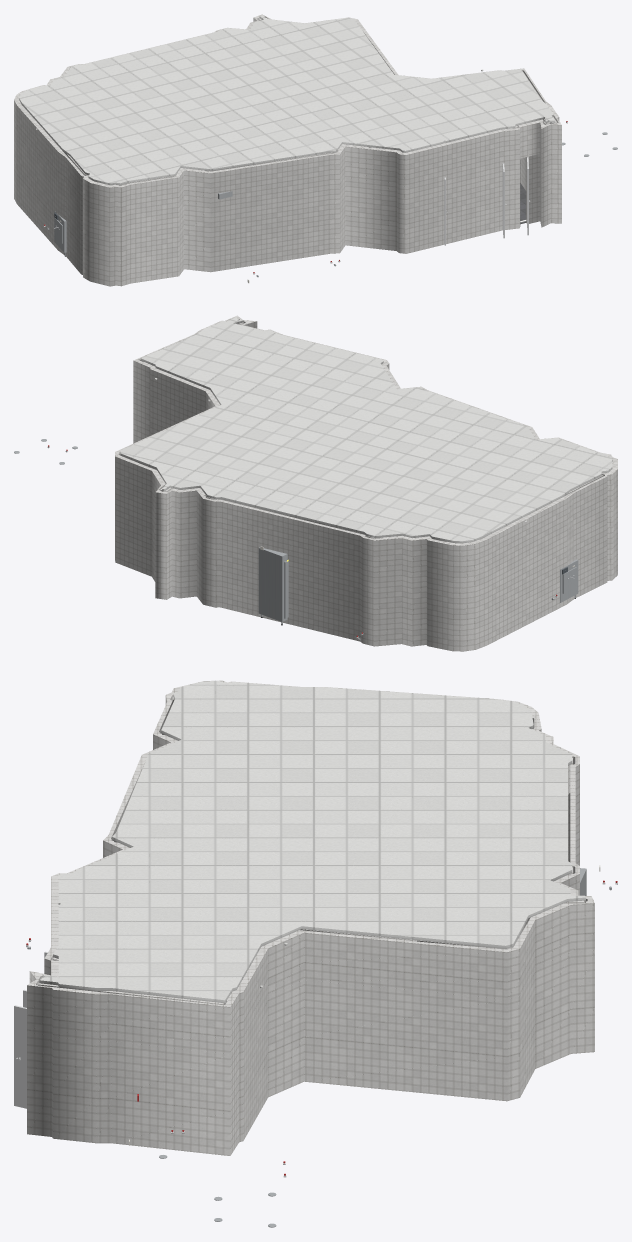
File: cocina_quest_a00909e28fa2.glb
3 views of the same model, one above another, from view 1: azimuth 30°, elevation 25°; view 2: azimuth 150°, elevation 25°; view 3: azimuth 270°, elevation 25° (orthographic). The views are drawn at different scales.
Visible parts, largest first — view 1: Z_cocina, Z_camaras; view 2: Z_cocina; view 3: Z_cocina, Z_camaras.
Boxes of the visible parts, x1,y1,x2,y2 form: Z_cocina: (14,14,561,286); Z_camaras: (444,69,617,245); Z_cocina: (115,315,617,651); Z_cocina: (26,680,617,1155); Z_camaras: (14,943,287,1227).
Size of the model in its own units: 17.2 by 3.42 by 11.02.
Materials: 26 (6 with a texture image).
